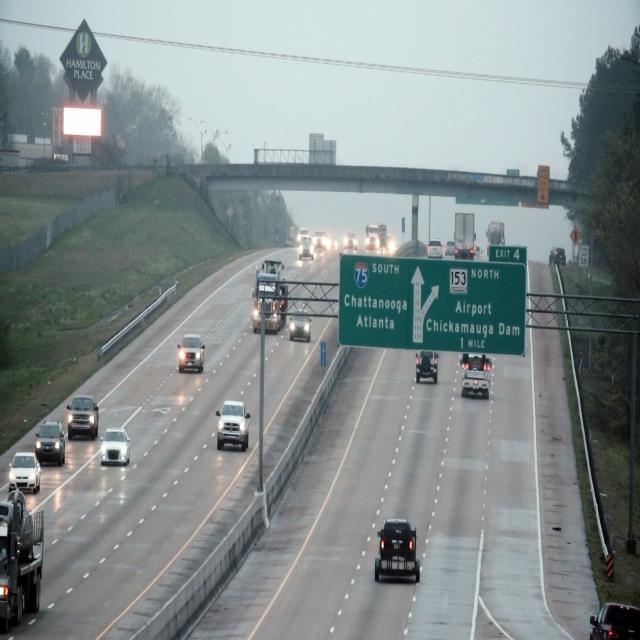Car: (377, 522, 422, 584), (254, 260, 286, 336), (215, 400, 251, 455), (460, 356, 493, 401), (39, 417, 65, 470), (10, 451, 41, 495), (68, 393, 98, 436), (101, 426, 130, 467), (179, 333, 205, 373), (289, 307, 311, 346)
